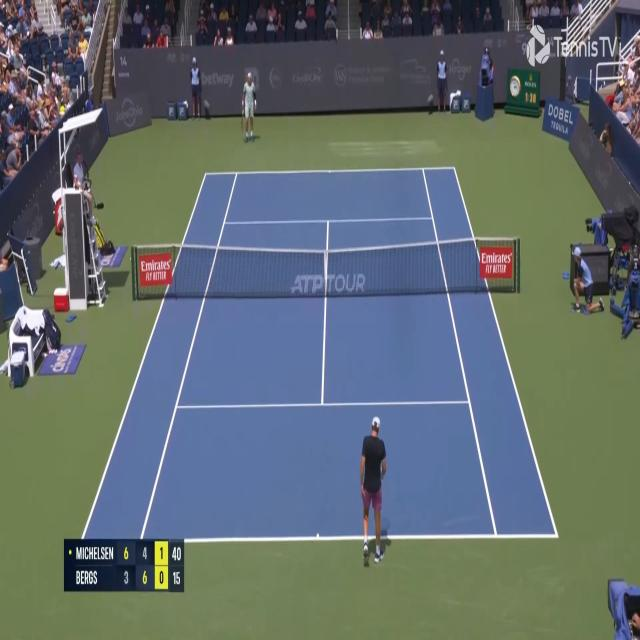tennis-player: (358, 415, 390, 568), (240, 70, 258, 142)
